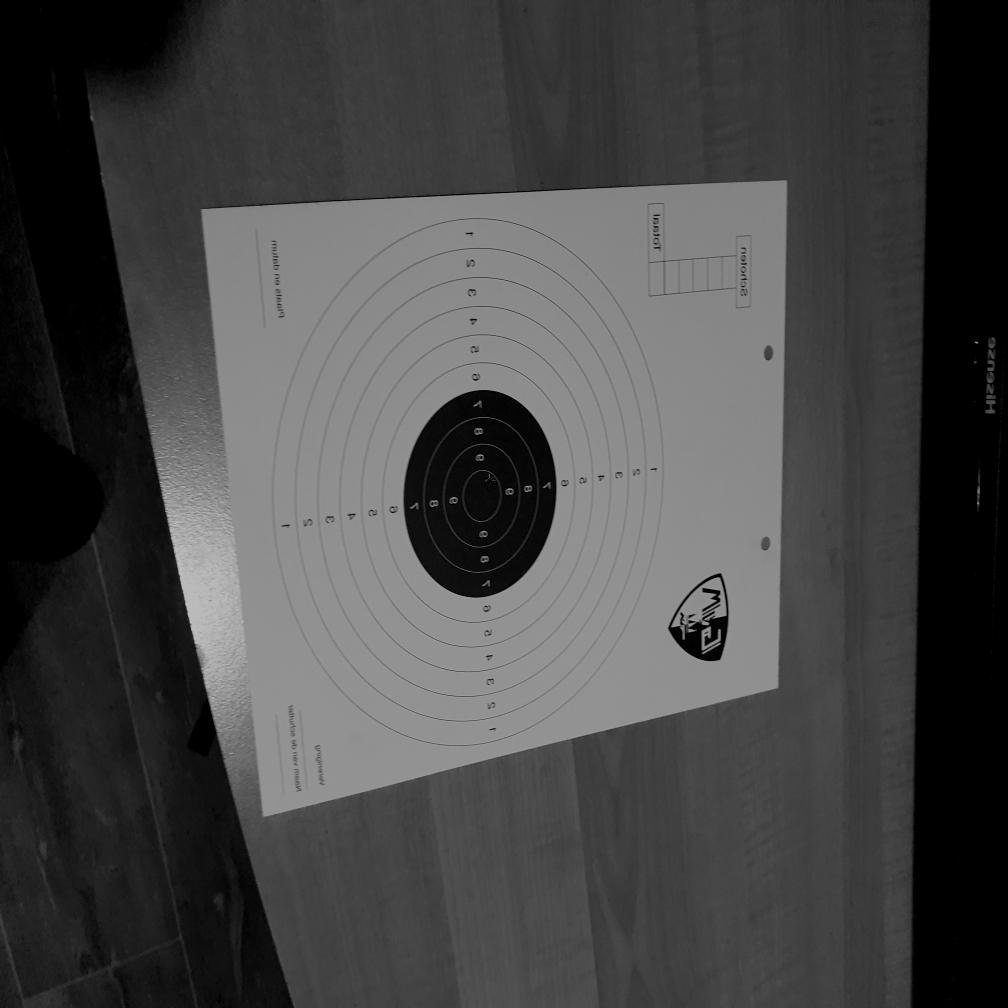10: (482, 473, 497, 491)
Target: (271, 218, 665, 749)
black_contour: (402, 389, 556, 598)
